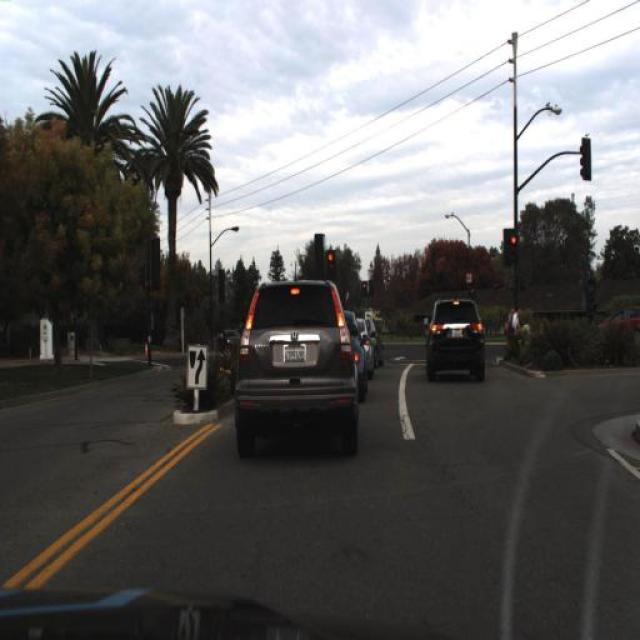car: (234, 279, 360, 459), (420, 297, 488, 383), (591, 301, 640, 348)
trafficLight: (506, 302, 522, 358), (508, 305, 518, 346)
trafficLight-RedLeft: (325, 248, 335, 283), (324, 250, 337, 276), (508, 231, 518, 261)
